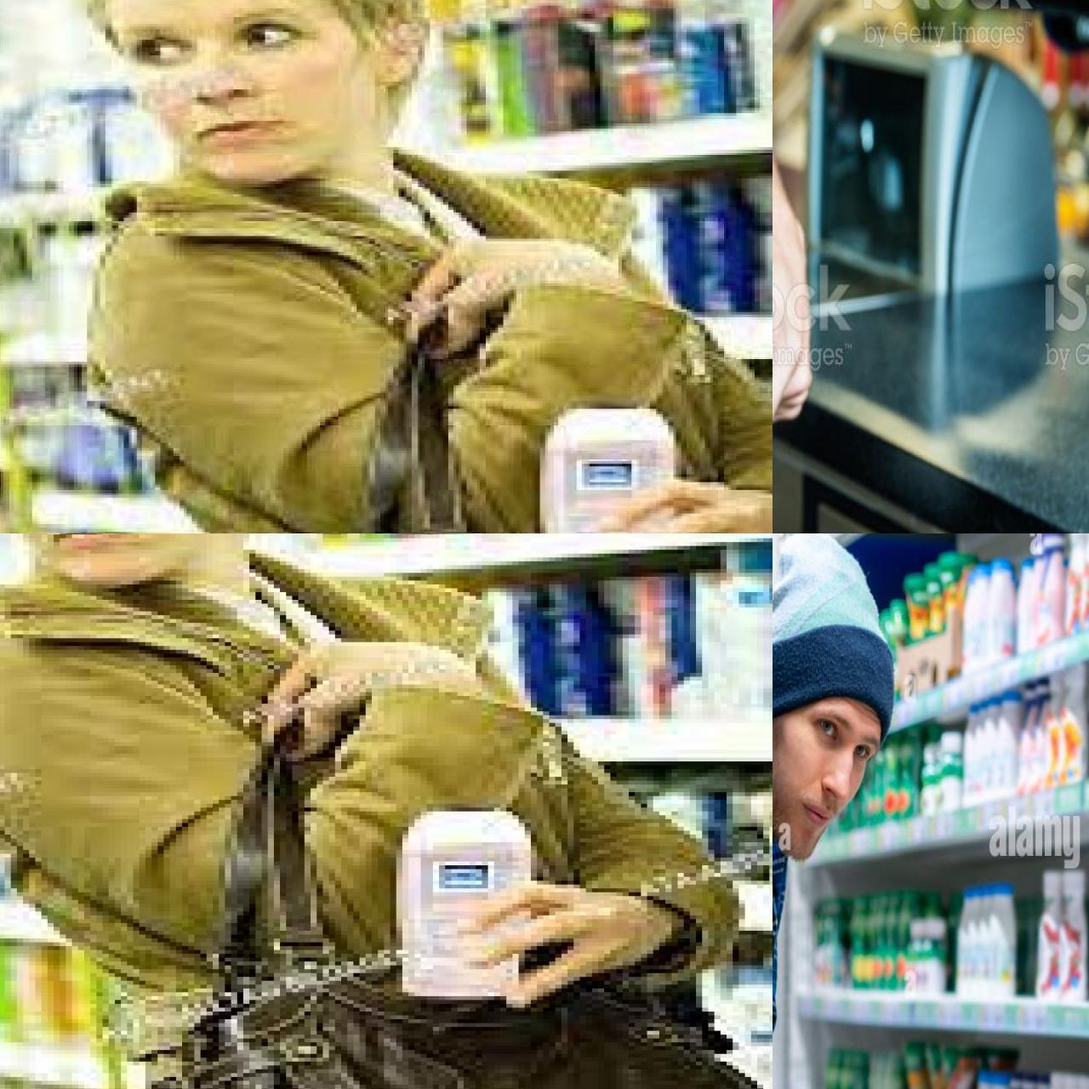shoplifting: (1, 692, 771, 1089), (0, 166, 767, 529)
